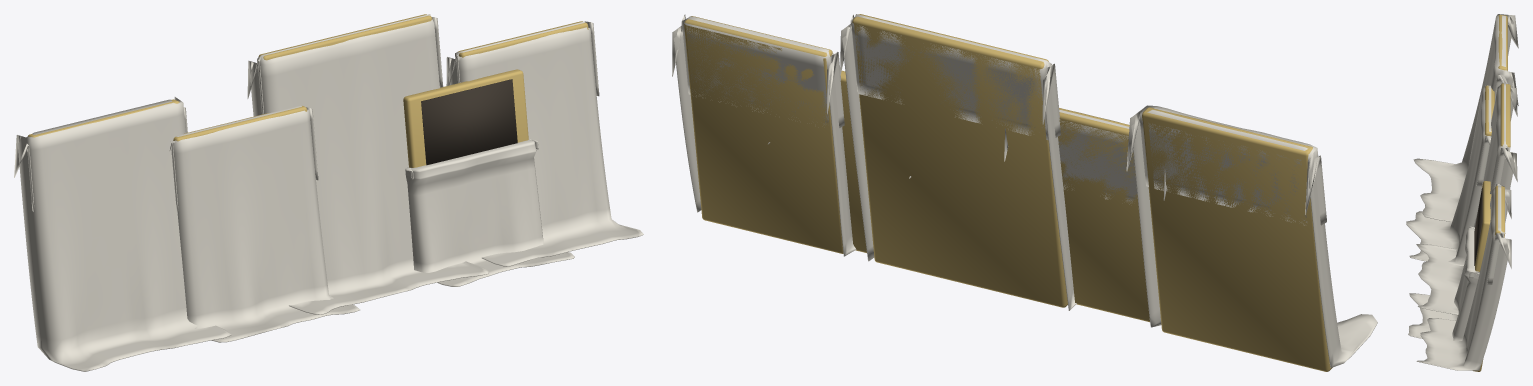
The model's file is covered_portraits.glb.
The picture shows the model from 3 angles, left to right: view 1: azimuth 30°, elevation 25°; view 2: azimuth 150°, elevation 25°; view 3: azimuth 270°, elevation 25°; orthographic projection. The views are drawn at different scales.
Parts seen in each view (by area): view 1: sheet0, sheet2, sheet1, sheet4, sheet3, canvas3, frame3, frame2, frame4, frame1; view 2: frame2, frame0, frame4, sheet2, frame1, sheet0, sheet4, sheet1, frame3; view 3: sheet4, sheet2, sheet1, sheet0, sheet3, frame3, frame2, frame4, canvas3, frame0, frame1.
Boxes of the visible parts, <box> form: sheet0: <box>14,97,231,371</box>; sheet2: <box>247,14,488,314</box>; sheet1: <box>169,105,360,342</box>; sheet4: <box>446,21,643,266</box>; sheet3: <box>405,138,574,286</box>; canvas3: <box>421,79,517,165</box>; frame3: <box>403,69,528,167</box>; frame2: <box>258,14,432,60</box>; frame4: <box>457,21,588,57</box>; frame1: <box>173,106,307,141</box>; frame2: <box>852,14,1067,307</box>; frame0: <box>1142,107,1332,371</box>; frame4: <box>684,16,843,253</box>; sheet2: <box>840,14,1076,310</box>; frame1: <box>1058,108,1149,322</box>; sheet0: <box>1126,105,1377,367</box>; sheet4: <box>672,14,856,256</box>; sheet1: <box>1004,110,1166,204</box>; frame3: <box>840,70,866,252</box>; sheet4: <box>1416,184,1511,370</box>; sheet2: <box>1416,82,1517,315</box>; sheet1: <box>1406,85,1491,266</box>; sheet0: <box>1413,14,1518,221</box>; sheet3: <box>1408,226,1479,341</box>; frame3: <box>1475,181,1491,271</box>; frame2: <box>1500,83,1510,147</box>; frame4: <box>1473,185,1505,371</box>; canvas3: <box>1474,188,1482,265</box>; frame0: <box>1498,14,1507,71</box>; frame1: <box>1485,85,1494,135</box>.
Size of the model in its own units: 2.67 by 1.04 by 0.6145.
